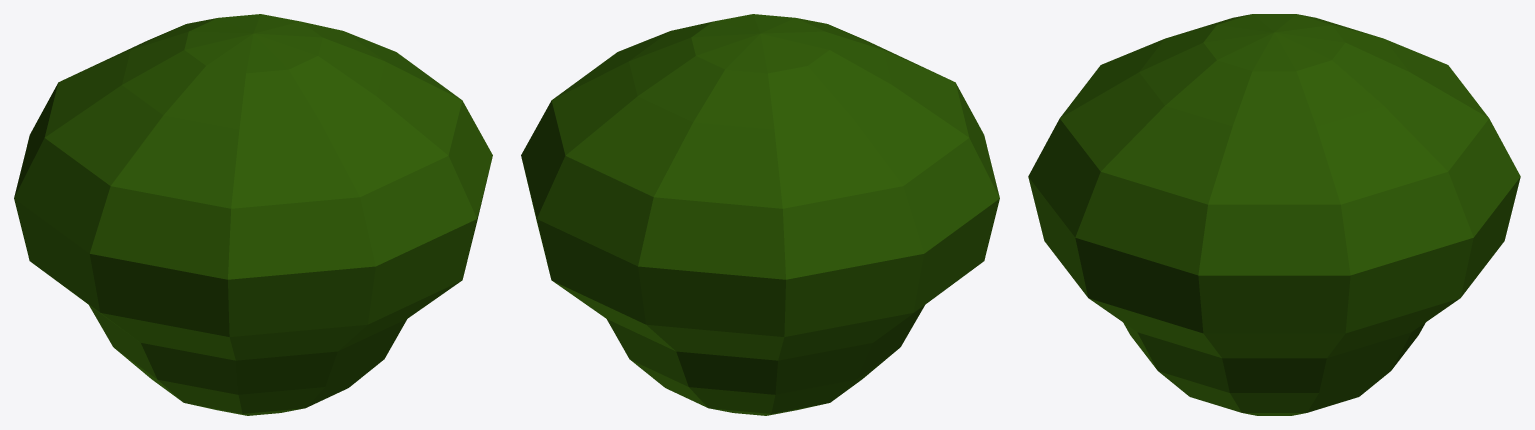
Rendered from Bush02.fbx.
3 renders of one model, left to right at view 1: azimuth 30°, elevation 25°; view 2: azimuth 150°, elevation 25°; view 3: azimuth 270°, elevation 25°, orthographic.
Parts seen in each view (by area): view 1: pSphere3; view 2: pSphere3; view 3: pSphere3.
Boxes of the visible parts, x1=… form: pSphere3: x1=14, y1=14, x2=492, y2=415; pSphere3: x1=521, y1=14, x2=999, y2=415; pSphere3: x1=1028, y1=14, x2=1520, y2=415.
Size of the model in its own units: 276 by 263 by 229.
